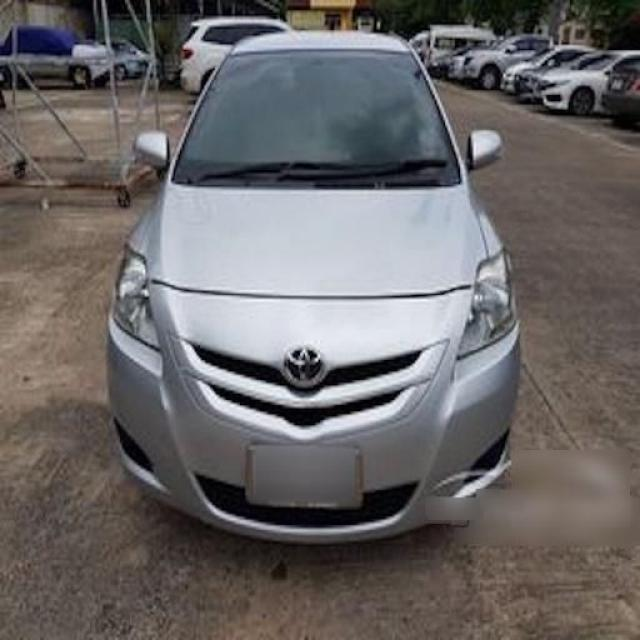front_bumper: (107, 284, 521, 543)
front_glass: (171, 48, 462, 191)
front_left_light: (457, 246, 518, 358)
front_right_light: (115, 240, 160, 352)
hood: (139, 182, 490, 298)
left_mirror: (468, 131, 505, 173)
right_mirror: (134, 131, 171, 179)
